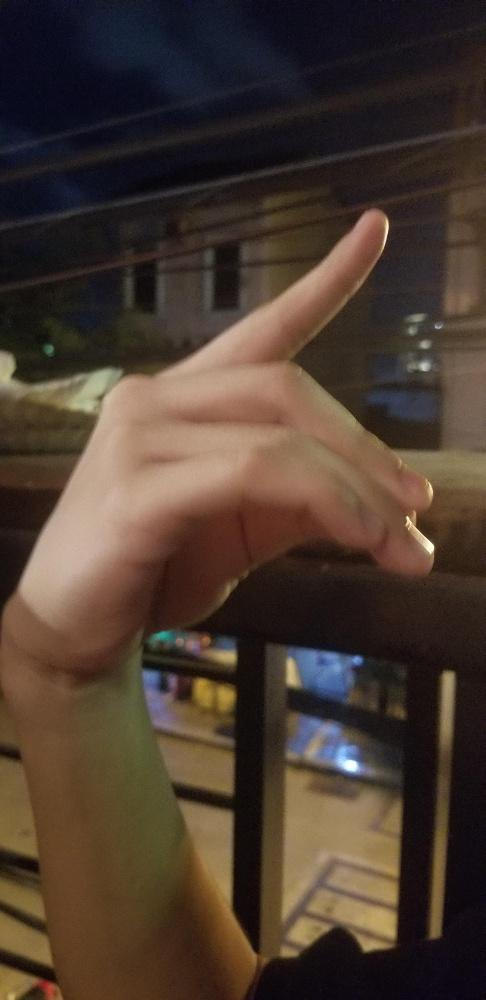d: (2, 201, 439, 666)
